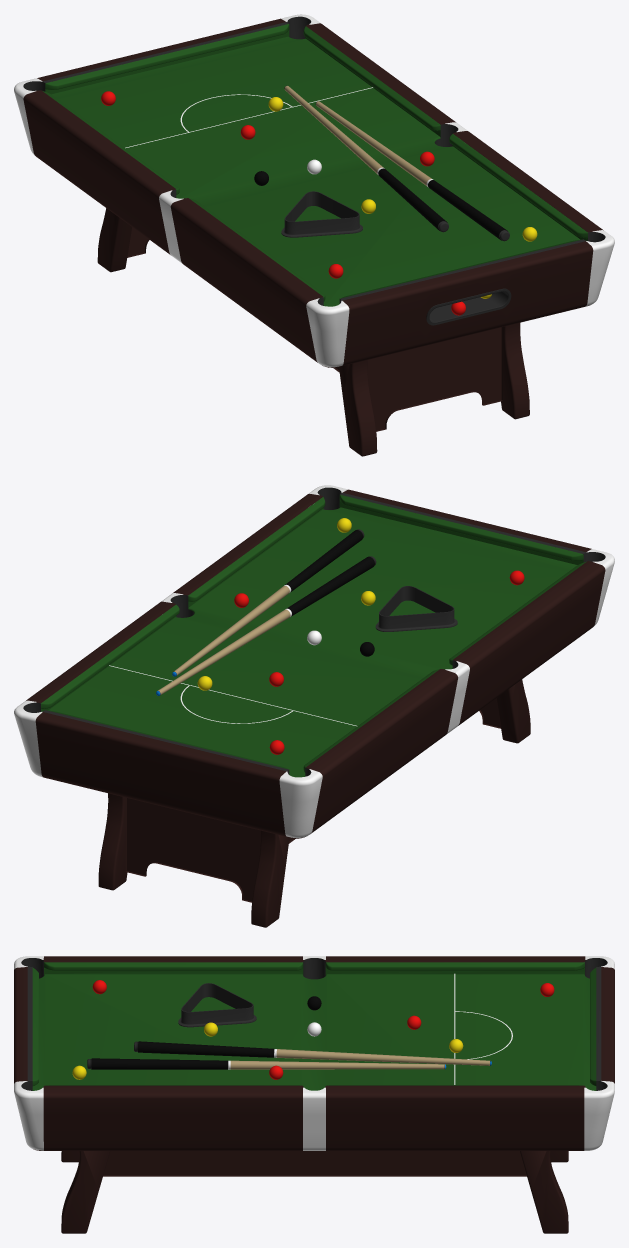
3 renders of one model, top to bottom at view 1: azimuth 30°, elevation 25°; view 2: azimuth 150°, elevation 25°; view 3: azimuth 270°, elevation 25°, orthographic. The views are drawn at different scales.
Parts seen in each view (by area): view 1: Cube_0, Plan.005_17, Plan.001_13, Plan_10, Cylindre.002_12, Plan.002_14, Cylindre.001_11, Plan.003_15; view 2: Cube_0, Plan.006_18, Plan.003_15, Cylindre.001_11, Plan_10, Cylindre.002_12, Plan.004_16, Plan.001_13; view 3: Cube_0, Plan.007_19, Cylindre.002_12, Cylindre.001_11, Plan.002_14, Plan.004_16, Plan_10.
Part boxes in pixels (x1,y1,x2,y2): Cube_0: [14, 14, 614, 367]; Plan.005_17: [367, 327, 502, 431]; Plan.001_13: [339, 360, 377, 456]; Plan_10: [281, 191, 362, 237]; Cylindre.002_12: [315, 101, 509, 241]; Plan.002_14: [501, 323, 529, 419]; Cylindre.001_11: [284, 85, 448, 232]; Plan.003_15: [97, 208, 131, 272]; Cube_0: [14, 485, 614, 838]; Plan.006_18: [125, 797, 260, 902]; Plan.003_15: [251, 830, 289, 927]; Cylindre.001_11: [156, 556, 376, 695]; Plan_10: [375, 586, 457, 631]; Cylindre.002_12: [172, 529, 364, 676]; Plan.004_16: [98, 793, 127, 890]; Plan.001_13: [496, 679, 530, 743]; Cube_0: [14, 956, 614, 1150]; Plan.007_19: [103, 1151, 526, 1176]; Cylindre.002_12: [87, 1058, 446, 1069]; Cylindre.001_11: [134, 1041, 491, 1065]; Plan.002_14: [61, 1151, 110, 1233]; Plan.004_16: [520, 1151, 568, 1233]; Plan_10: [178, 983, 256, 1027].
Size of the model in its own units: 1.17 by 0.6764 by 2.12.
